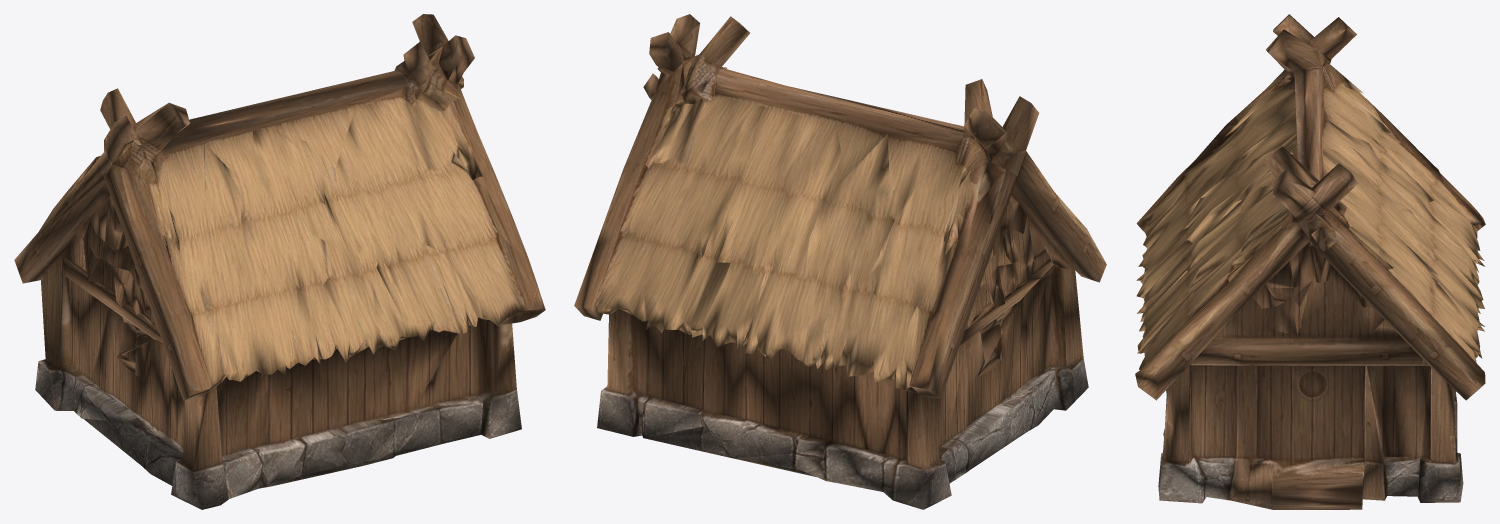
File: house-hut.glb
3 views of the same model, side by side, from view 1: azimuth 30°, elevation 25°; view 2: azimuth 150°, elevation 25°; view 3: azimuth 270°, elevation 25° (orthographic). The views are drawn at different scales.
Visible parts, largest first — view 1: Mesh_0; view 2: Mesh_0; view 3: Mesh_0.
Boxes of the visible parts, x1,y1,x2,y2 form: Mesh_0: [14, 14, 545, 509]; Mesh_0: [574, 14, 1106, 509]; Mesh_0: [1135, 14, 1485, 509].
Bounding box in the file's own units: 4.36 × 4 × 3.76.
Materials: 1 (1 with a texture image).
